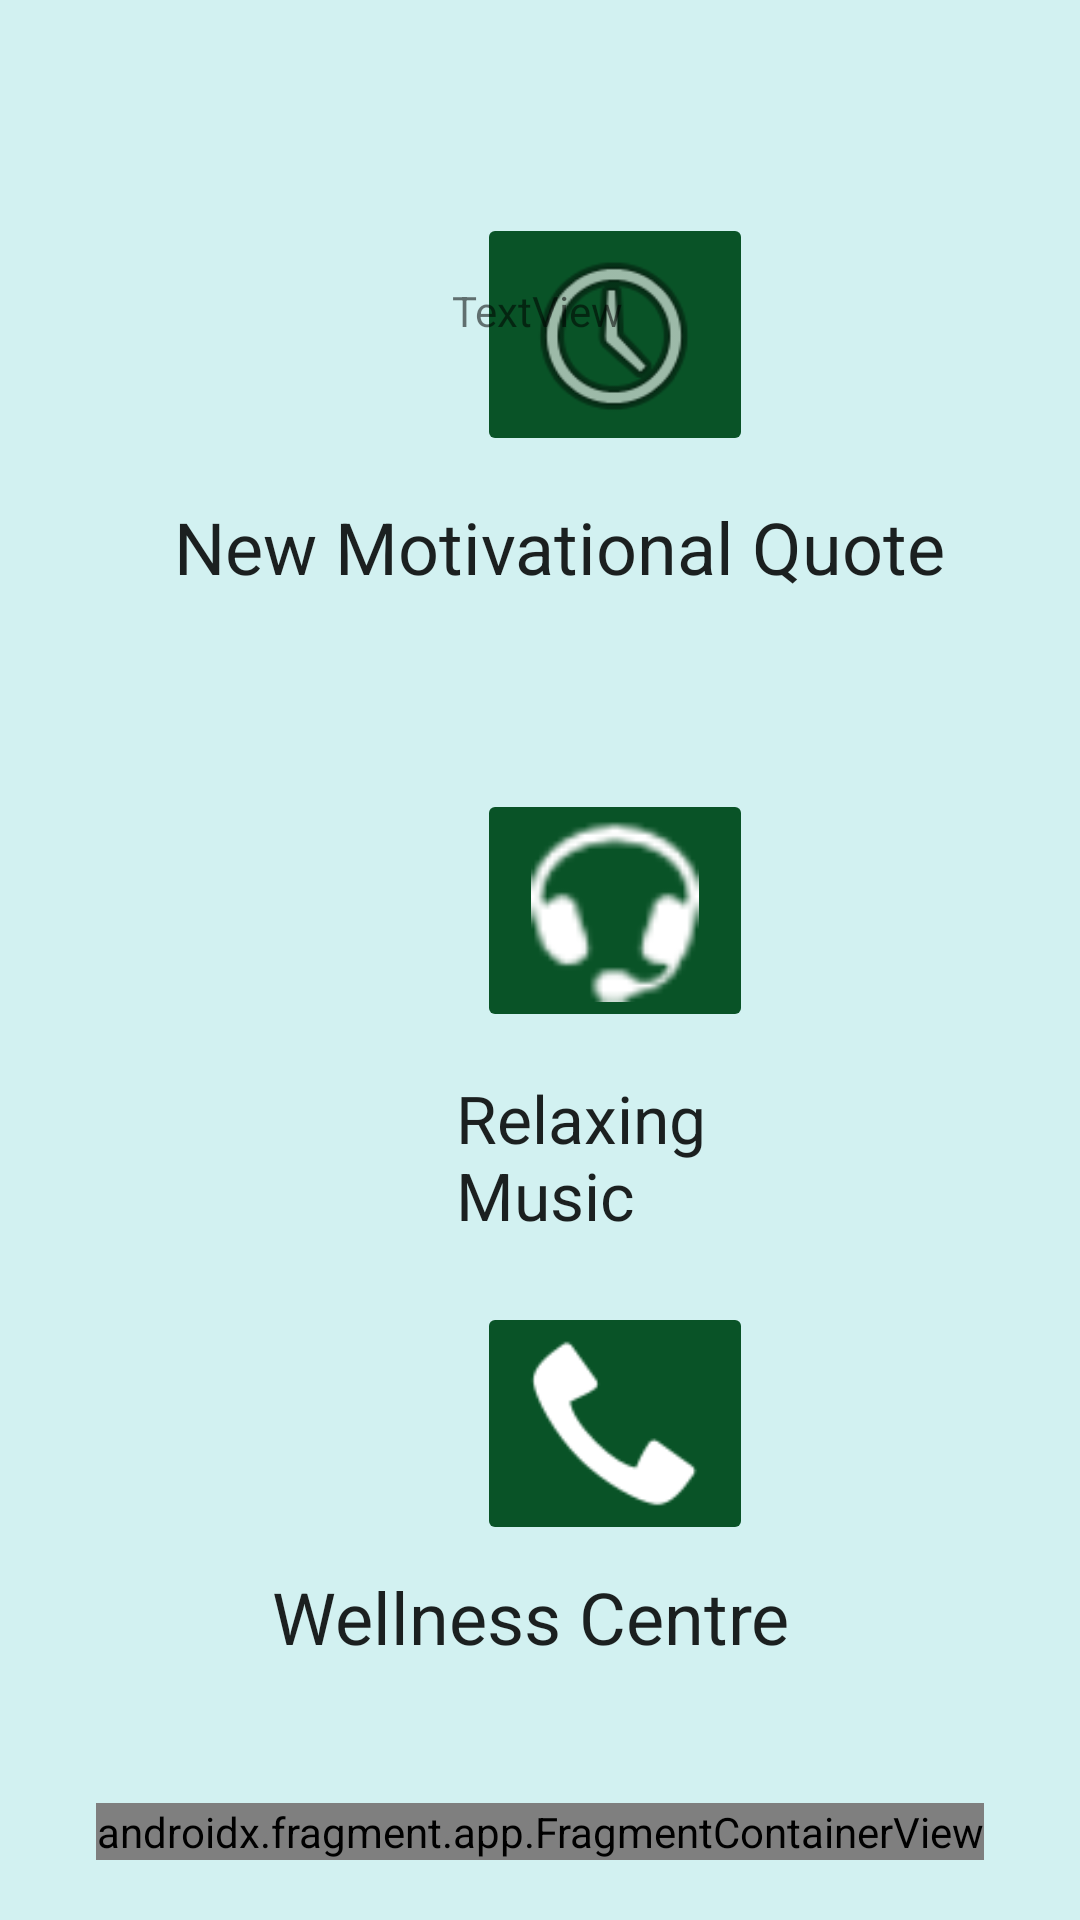

Where icons sit on this 1080 × 1920 app screen, as (x1, y1, x2, y2):
headset: (489, 807, 741, 1014)
phone call: (489, 1320, 741, 1527)
